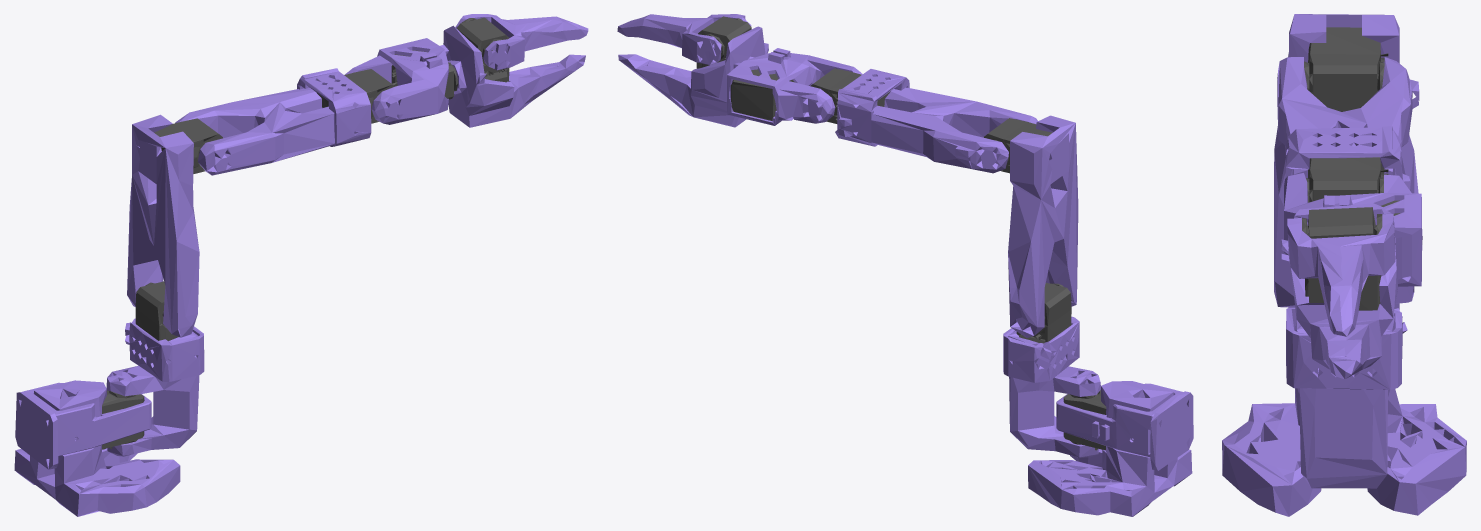
File: so101-lite.glb
3 renders of one model, left to right at view 1: azimuth 30°, elevation 25°; view 2: azimuth 150°, elevation 25°; view 3: azimuth 270°, elevation 25°, orthographic. The views are drawn at different scales.
Visible parts, largest first — view 1: base_link_visual (×4), upper_arm_link_visual (×2), lower_arm_link_visual (×3), shoulder_link_visual (×3), gripper_link_visual (×2), wrist_link_visual, moving_jaw_so101_v1_link_visual; view 2: base_link_visual (×4), upper_arm_link_visual (×2), lower_arm_link_visual (×3), shoulder_link_visual (×3), wrist_link_visual (×2), gripper_link_visual (×2), moving_jaw_so101_v1_link_visual; view 3: base_link_visual, lower_arm_link_visual (×3), shoulder_link_visual (×2), upper_arm_link_visual (×2), gripper_link_visual (×2), moving_jaw_so101_v1_link_visual, wrist_link_visual.
Part boxes in pixels (x1,y1,x2,y2): base_link_visual (×4): (14, 380, 180, 516); upper_arm_link_visual (×2): (127, 114, 222, 337); lower_arm_link_visual (×3): (175, 68, 394, 175); shoulder_link_visual (×3): (106, 281, 204, 456); gripper_link_visual (×2): (443, 17, 585, 127); wrist_link_visual: (344, 38, 448, 124); moving_jaw_so101_v1_link_visual: (455, 14, 588, 70); base_link_visual (×4): (1028, 381, 1193, 516); upper_arm_link_visual (×2): (984, 115, 1078, 337); lower_arm_link_visual (×3): (810, 68, 1037, 173); shoulder_link_visual (×3): (1003, 283, 1100, 457); wrist_link_visual (×2): (727, 48, 862, 125); gripper_link_visual (×2): (618, 16, 768, 127); moving_jaw_so101_v1_link_visual: (617, 14, 751, 64); base_link_visual: (1222, 388, 1466, 516); lower_arm_link_visual (×3): (1277, 57, 1419, 202); shoulder_link_visual (×2): (1286, 307, 1407, 488); upper_arm_link_visual (×2): (1274, 14, 1422, 307); gripper_link_visual (×2): (1281, 203, 1398, 379); moving_jaw_so101_v1_link_visual: (1287, 213, 1395, 336); wrist_link_visual: (1284, 173, 1421, 286).
Bounding box in the file's own units: 0.4296 × 0.2679 × 0.1105.
